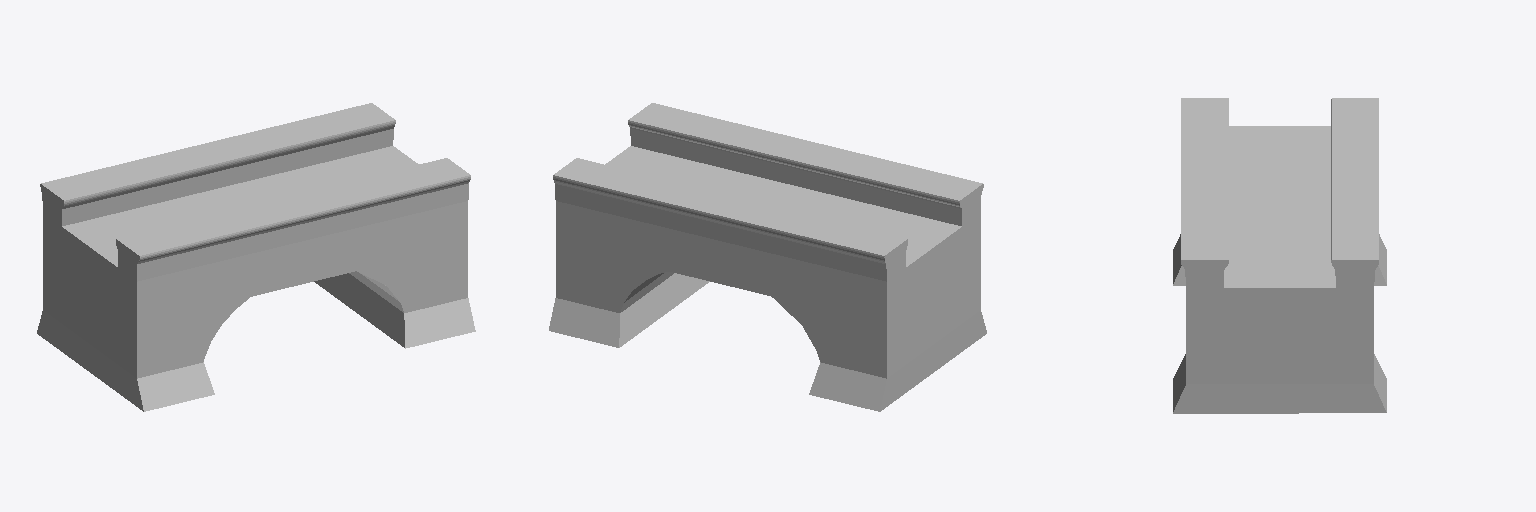
Rendered from pieceI.obj.
The picture shows the model from 3 angles: view 1: azimuth 30°, elevation 25°; view 2: azimuth 150°, elevation 25°; view 3: azimuth 270°, elevation 25°; orthographic projection.
Visible parts, largest first — view 1: Plane.001; view 2: Plane.001; view 3: Plane.001.
Part boxes in pixels (x1,y1,x2,y2): Plane.001: (37,103,475,411); Plane.001: (549,103,986,411); Plane.001: (1173,98,1386,413).
Size of the model in its own units: 4.12 by 1.82 by 2.31.